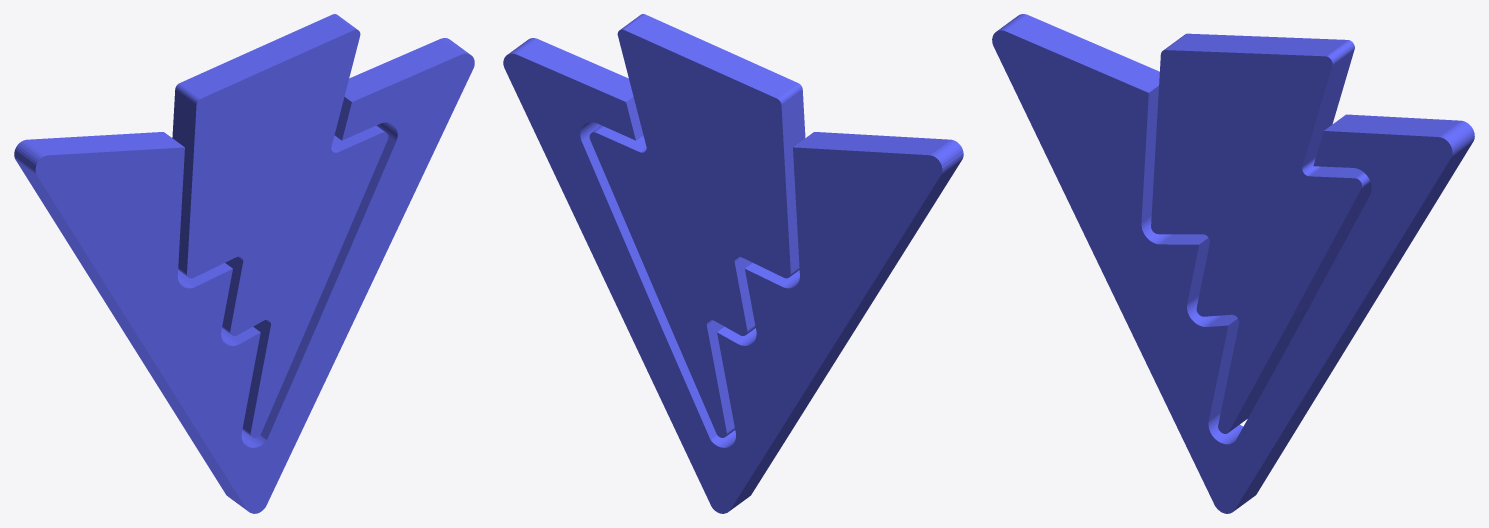
The model's file is Vite_model.glb.
3 views of the same model, side by side, from view 1: azimuth 30°, elevation 25°; view 2: azimuth 150°, elevation 25°; view 3: azimuth 330°, elevation 25° (orthographic). The views are drawn at different scales.
Parts seen in each view (by area): view 1: Curve; view 2: Curve; view 3: Curve.
Part boxes in pixels (bbox=[...]): Curve: bbox=[14, 14, 474, 513]; Curve: bbox=[503, 14, 963, 513]; Curve: bbox=[992, 14, 1474, 513].
Bounding box in the file's own units: 0.6763 × 0.6772 × 0.0576.
